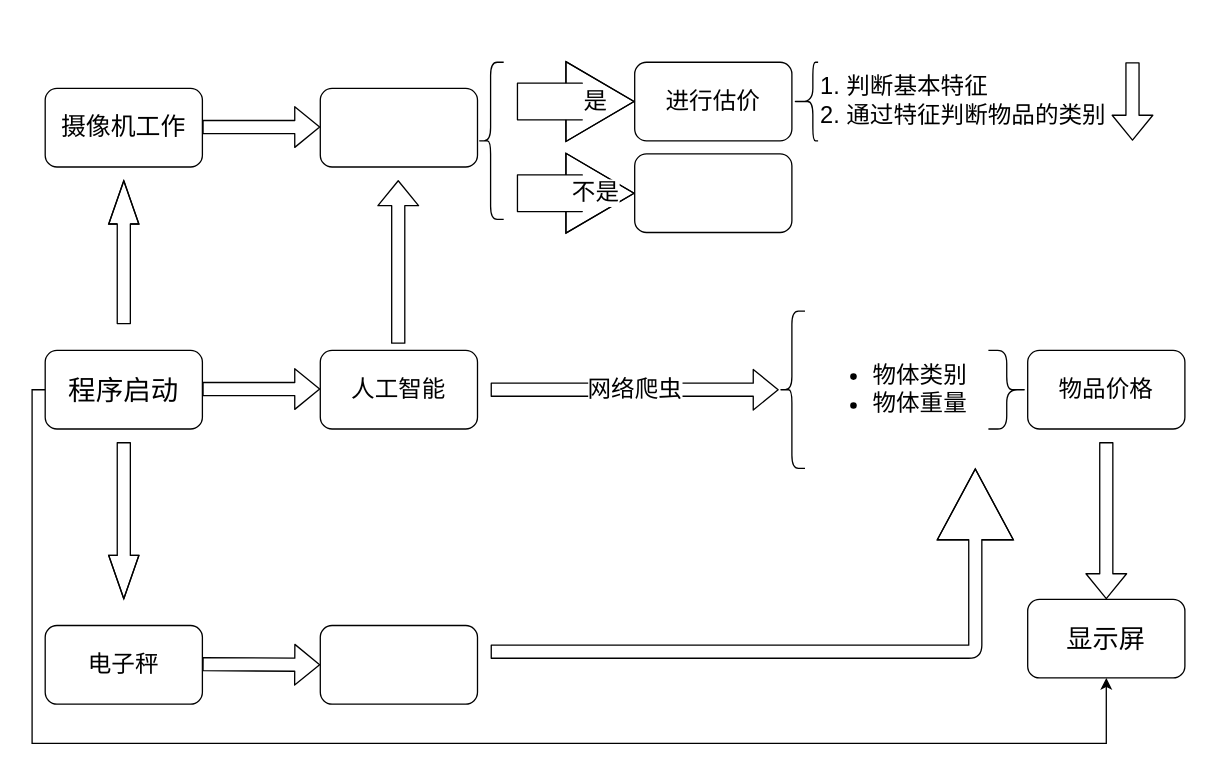
This 1208x777 diagram has some shape labels left out. The centre of each missing label's shape, as x and y in pixels:
称量重量: [398,664]
终止: [712,193]
识别是否为商品: [398,127]
